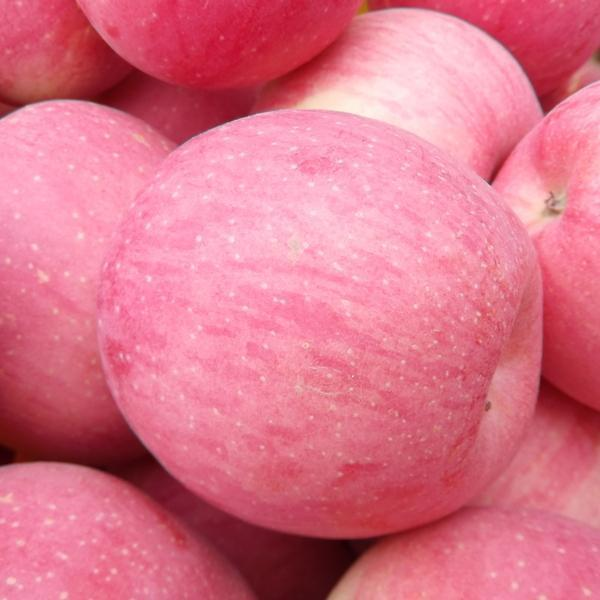apple: (97, 110, 543, 539), (1, 98, 178, 461), (249, 7, 543, 189), (1, 462, 262, 600)
